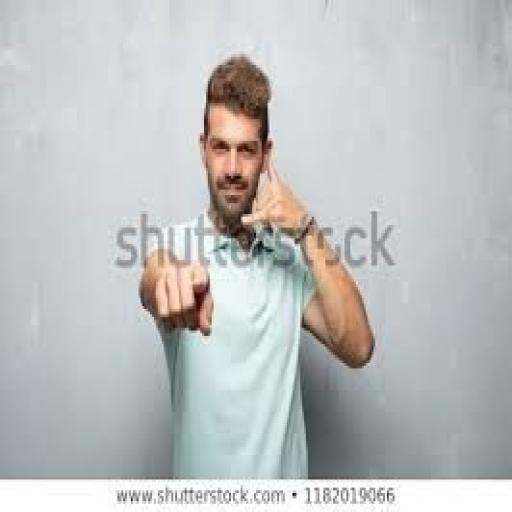calling: (137, 52, 375, 480)
